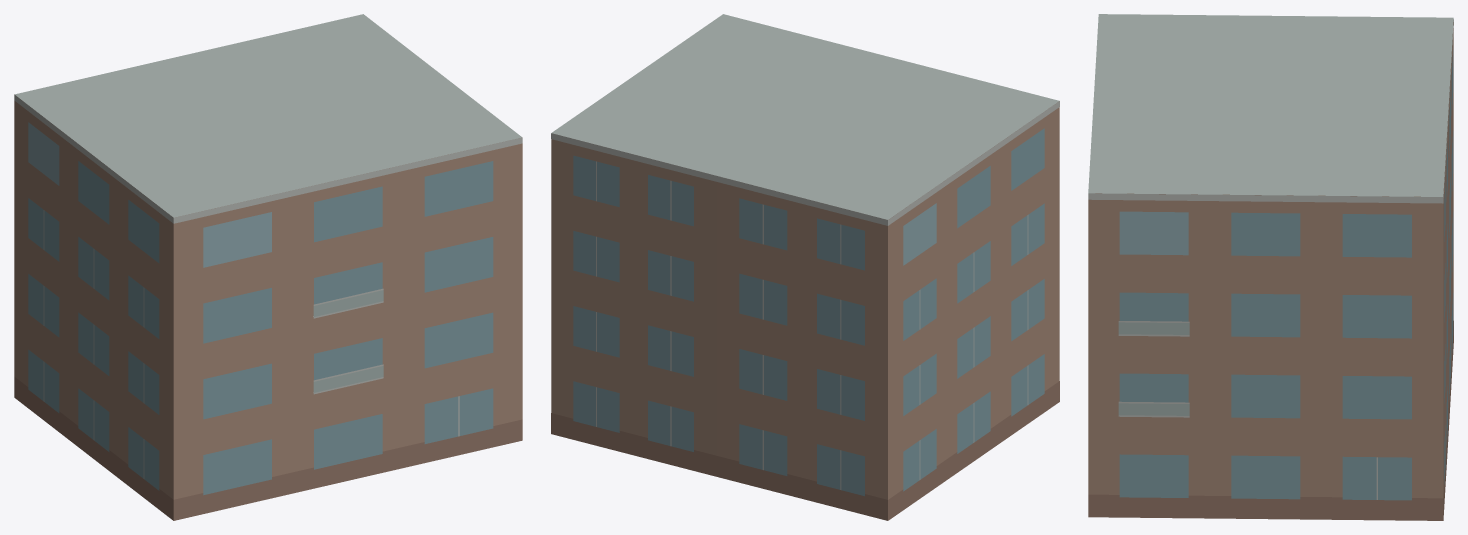
File: residential-e7e695aa-0fd7-42fe-bff8-d5ed1c69b8ac.glb
The picture shows the model from 3 angles, left to right: view 1: azimuth 30°, elevation 25°; view 2: azimuth 150°, elevation 25°; view 3: azimuth 270°, elevation 25°; orthographic projection. The views are drawn at different scales.
Parts seen in each view (by area): view 1: residential-e7e695aa-0fd7-42fe-bff8-d5ed1c69b8ac.tmp; view 2: residential-e7e695aa-0fd7-42fe-bff8-d5ed1c69b8ac.tmp; view 3: residential-e7e695aa-0fd7-42fe-bff8-d5ed1c69b8ac.tmp.
Part boxes in pixels (x1,y1,x2,y2): residential-e7e695aa-0fd7-42fe-bff8-d5ed1c69b8ac.tmp: (14,14,522,520); residential-e7e695aa-0fd7-42fe-bff8-d5ed1c69b8ac.tmp: (551,14,1059,520); residential-e7e695aa-0fd7-42fe-bff8-d5ed1c69b8ac.tmp: (1088,14,1453,520).
Bounding box in the file's own units: 14.79 × 12.2 × 12.49.
